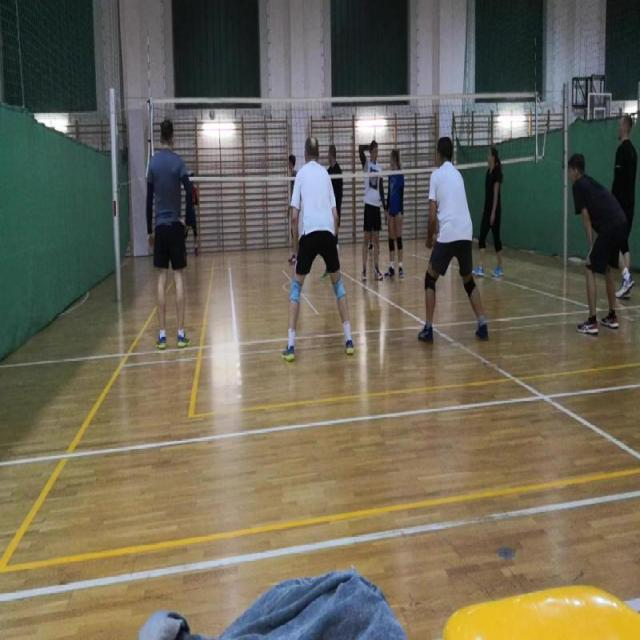volleyball: (209, 109, 214, 118)
